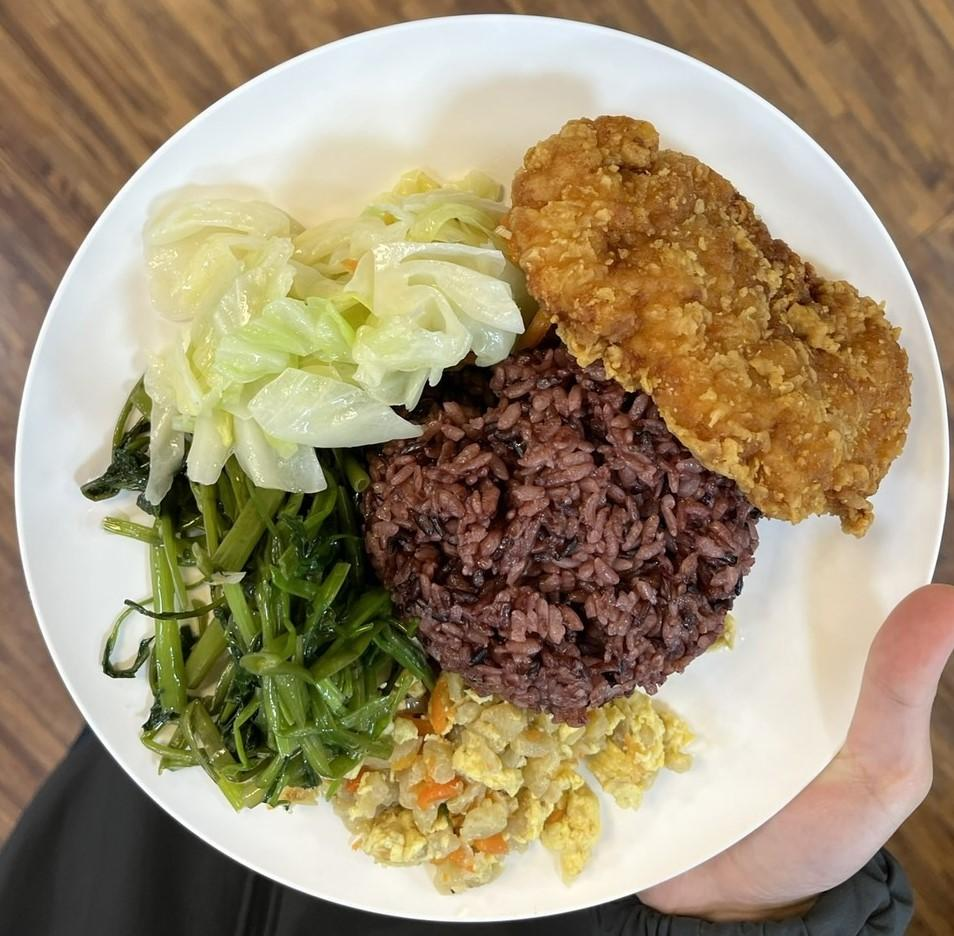big fried chicken leg: (18, 14, 954, 923)
braised fish: (376, 341, 761, 703)
braised fish fillet: (127, 156, 506, 494), (96, 456, 399, 795), (341, 678, 704, 889)
braised pork: (500, 108, 914, 532)
